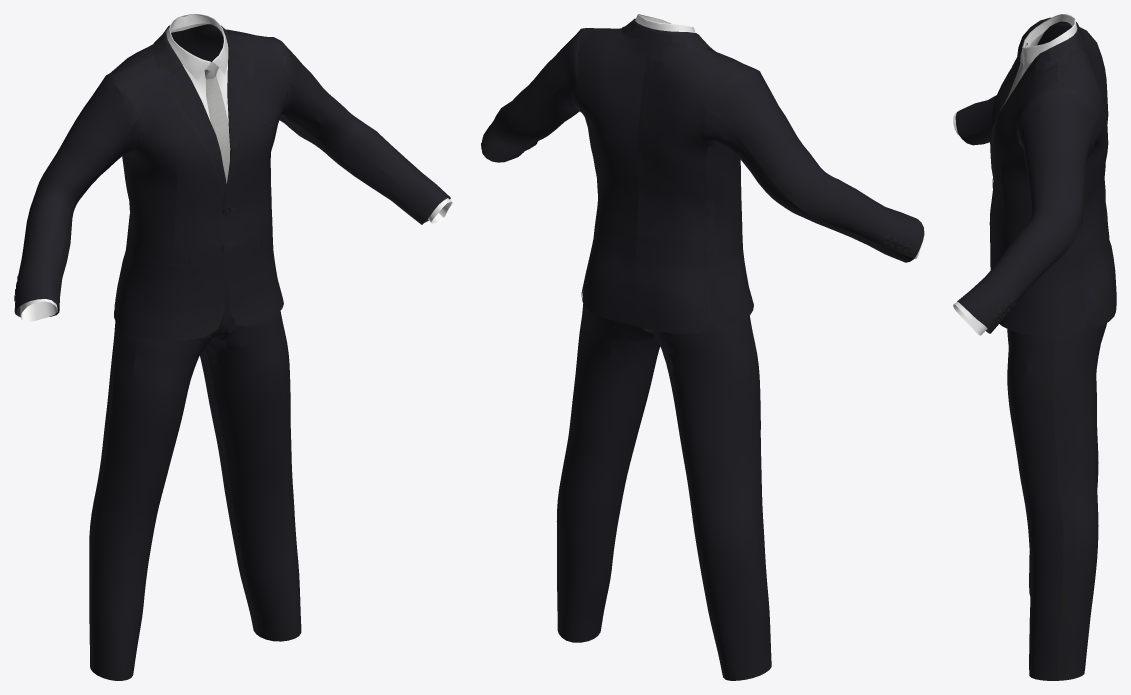
The model's file is mindfront-m-suit-01.glb.
The picture shows the model from 3 angles, left to right: view 1: azimuth 30°, elevation 25°; view 2: azimuth 150°, elevation 25°; view 3: azimuth 270°, elevation 25°; orthographic projection. The views are drawn at different scales.
Visible parts, largest first — view 1: m suit 01; view 2: m suit 01; view 3: m suit 01.
Part boxes in pixels (left/top/right/bottom): m suit 01: left=14, top=14, right=452, bottom=680; m suit 01: left=481, top=14, right=924, bottom=680; m suit 01: left=953, top=14, right=1116, bottom=680.
Bounding box in the file's own units: 106 × 148 × 35.55.
Materials: 1 (1 with a texture image).
